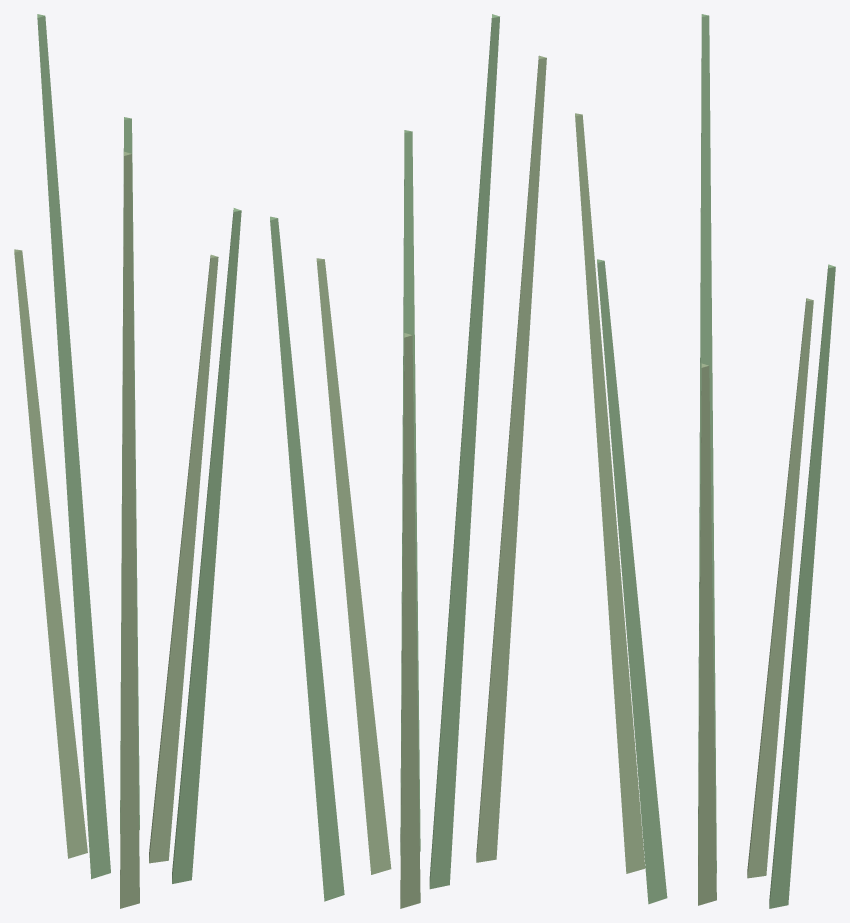
The model's file is reed_v17.glb.
3 renders of one model, left to right at view 1: azimuth 30°, elevation 25°; view 2: azimuth 150°, elevation 25°; view 3: azimuth 270°, elevation 25°, orthographic. The views are drawn at different scales.
Parts seen in each view (by area): view 1: lod0; view 2: lod0; view 3: lod0.
Part boxes in pixels (x1,y1,x2,y2): lod0: [14, 14, 241, 908]; lod0: [270, 14, 546, 908]; lod0: [575, 14, 835, 908].
Size of what is drawn, in the model's own units: 0.3138 by 1.45 by 0.4104.
